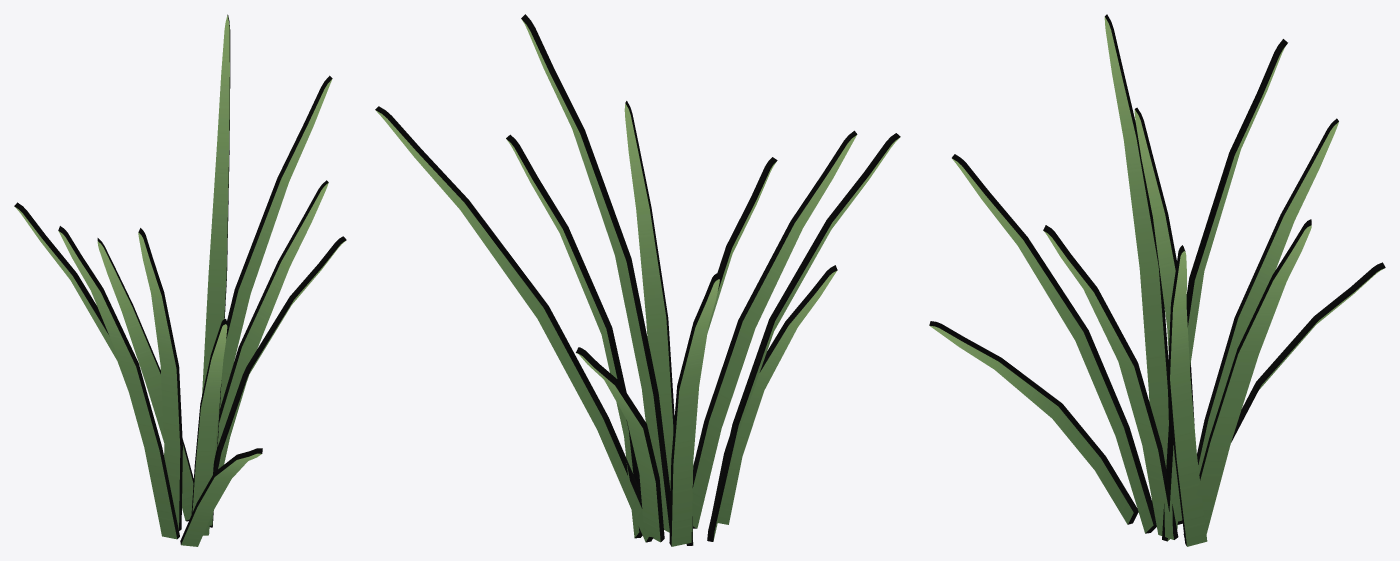
Rendered from env_grass.glb.
The picture shows the model from 3 angles, left to right: view 1: azimuth 30°, elevation 25°; view 2: azimuth 150°, elevation 25°; view 3: azimuth 270°, elevation 25°; orthographic projection. The views are drawn at different scales.
Visible parts, largest first — view 1: Plane; view 2: Plane; view 3: Plane.
Part boxes in pixels (x1,y1,x2,y2): Plane: (14,14,346,546); Plane: (375,14,900,546); Plane: (929,14,1385,546).
Bounding box in the file's own units: 0.3339 × 0.4057 × 0.3101.
Materials: 2 (1 with a texture image).
